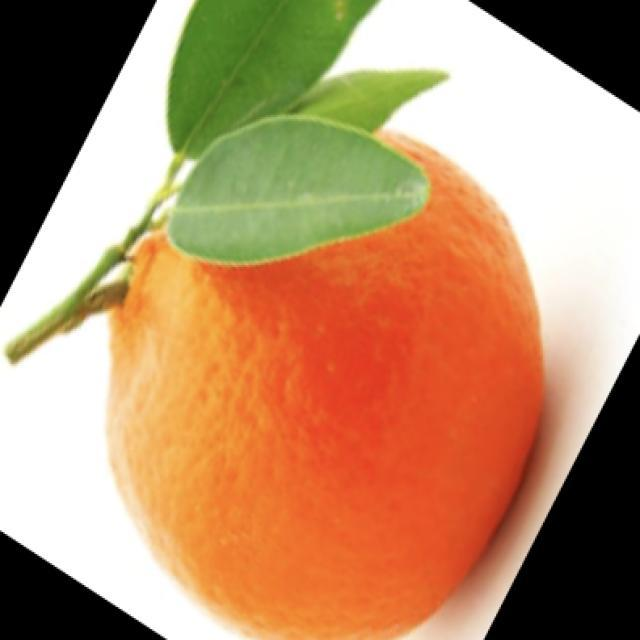Orange: (103, 126, 546, 639)
